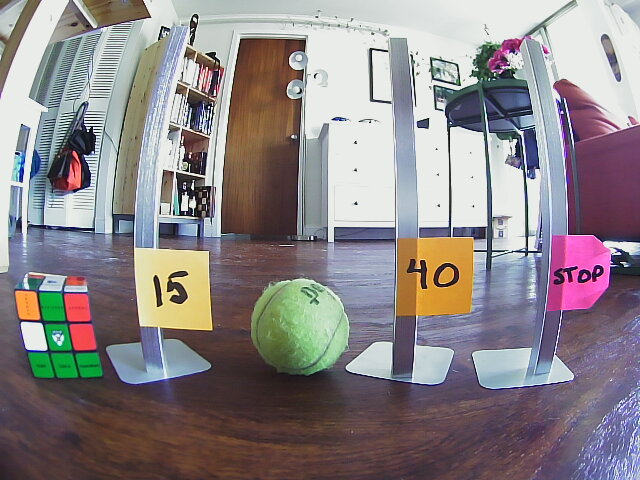15: (139, 256, 206, 325)
40: (399, 238, 474, 315)
ball: (253, 278, 348, 374)
cube: (20, 274, 99, 385)
stop: (547, 241, 606, 311)
